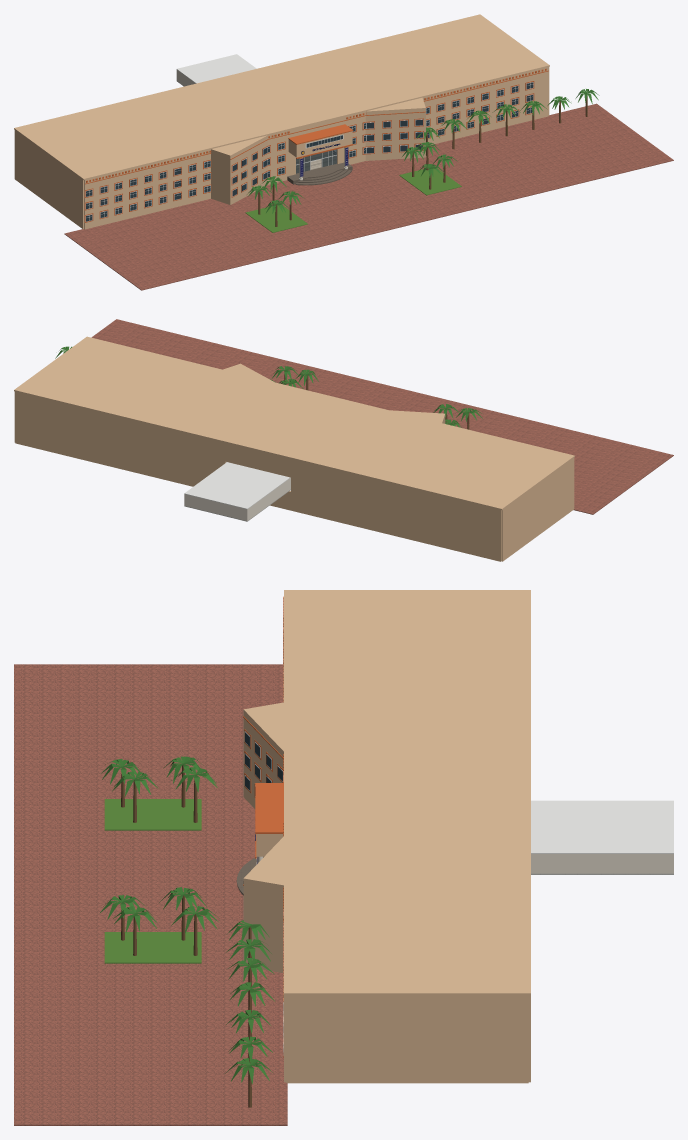
Rendered from campus.glb.
3 views of the same model, one above another, from view 1: azimuth 30°, elevation 25°; view 2: azimuth 150°, elevation 25°; view 3: azimuth 270°, elevation 25° (orthographic). The views are drawn at different scales.
Parts seen in each view (by area): view 1: Facade1-col, Plaza1-col, WinSurround1, AngledWing1-col, AngledWing2-col, WinGlass1, PalmLeaves1, Grass1-col, WinFrame1, UpperCeiling3, PalmTrunk1-col, Canopy1 (+8 smaller); view 2: Facade1-col, Plaza1-col, UpperCeiling3, ClassWalls3-col, PalmLeaves1; view 3: Facade1-col, Plaza1-col, UpperCeiling3, PalmLeaves1, Grass1-col, AngledWing2-col, ClassWalls3-col, AngledWing1-col, PalmTrunk1-col, CanopyBand1.
Boxes of the visible parts, x1,y1,x2,y2 form: Facade1-col: (14,14,549,229); Plaza1-col: (64,103,673,290); WinSurround1: (84,68,548,222); AngledWing1-col: (211,135,267,204); AngledWing2-col: (365,97,425,160); WinGlass1: (86,82,533,221); PalmLeaves1: (247,89,599,213); Grass1-col: (245,166,461,232); WinFrame1: (85,82,533,221); UpperCeiling3: (176,54,256,83); PalmTrunk1-col: (258,96,587,226); Canopy1: (288,131,352,157); Facade1-col: (14,336,574,561); Plaza1-col: (91,319,673,514); UpperCeiling3: (184,462,290,509); ClassWalls3-col: (184,478,290,520); PalmLeaves1: (55,346,482,427); Facade1-col: (284,590,530,1083); Plaza1-col: (14,664,287,1125); UpperCeiling3: (531,800,673,853); PalmLeaves1: (100,756,275,1084); Grass1-col: (104,799,201,963); AngledWing2-col: (243,836,283,972); ClassWalls3-col: (531,854,673,873); AngledWing1-col: (243,702,283,808); PalmTrunk1-col: (121,764,251,1107); CanopyBand1: (255,783,283,858).
Size of what is drawn, in the model's own units: 180 by 16.6 by 109.
61 materials, 6 textured.
